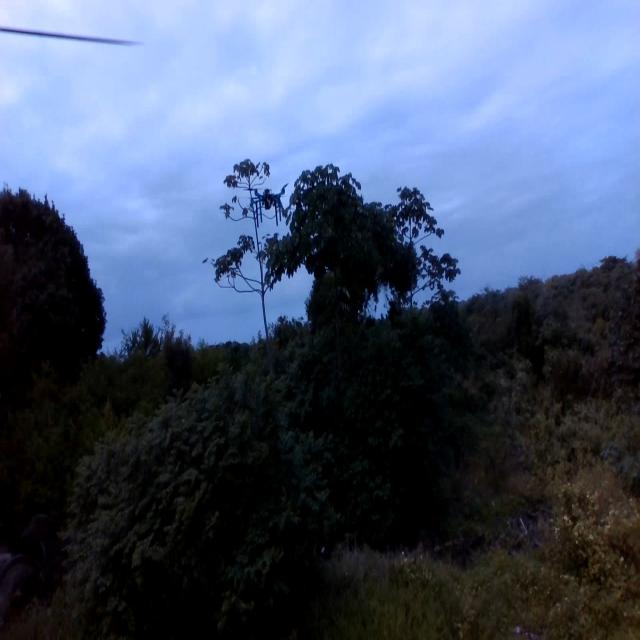-uav-: (239, 179, 293, 226)
